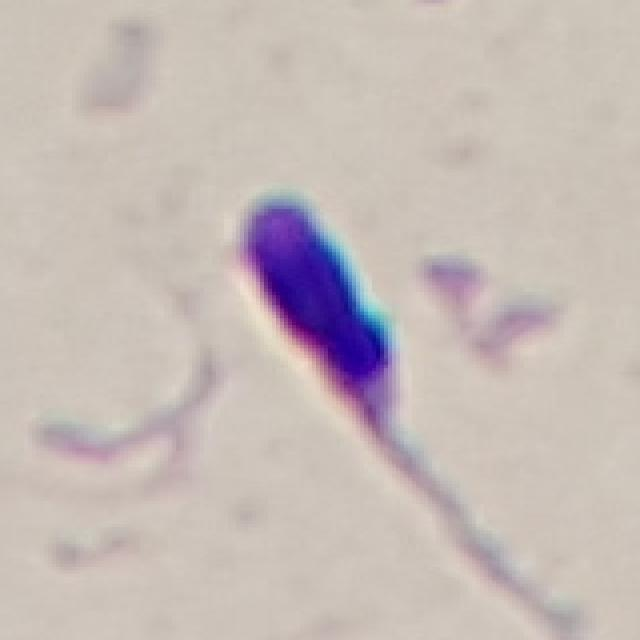abnormal sperm: (214, 185, 431, 566)
